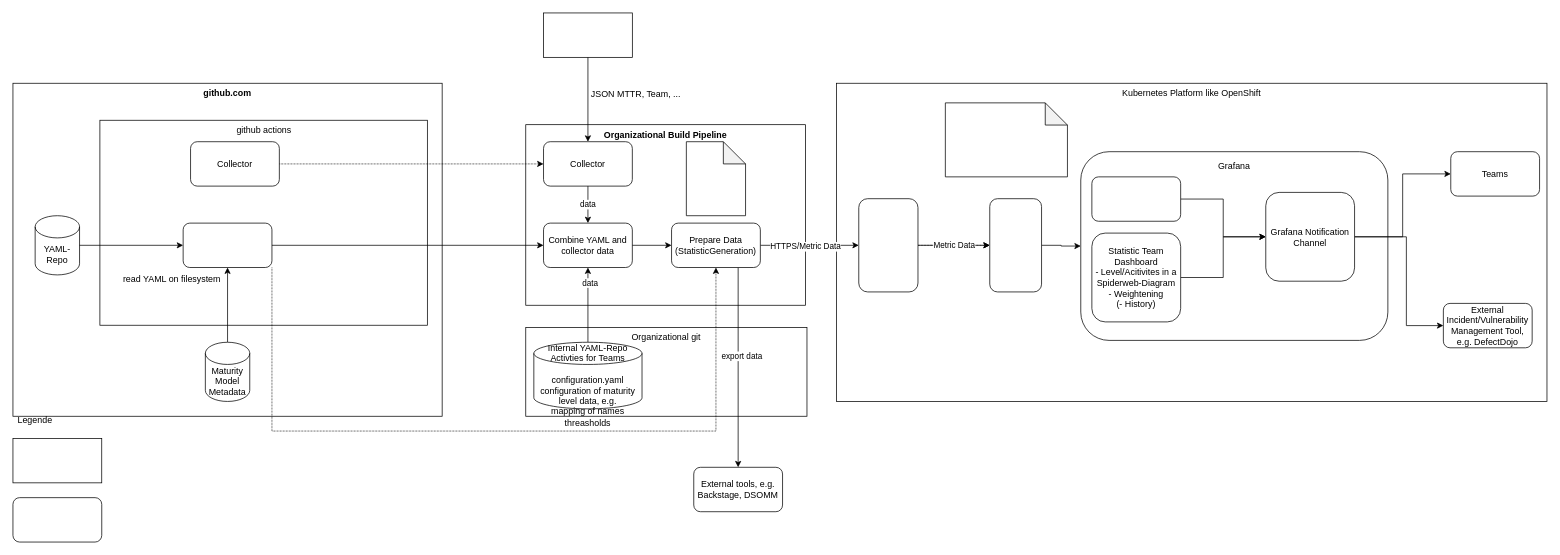
This 1560x555 diagram has some shape labels left out. Here are the shapes that lost their labels. From the top down, the centre of each, then its label:
At (587,34): "Tools, e.g. Confluence, Contrast, Jira, DefectDojo".
At (1006,139): "store Mean Time to Patch per day/application and level".
At (716,178): "Calculate Mean Time to Patch per day/team".
At (1136,198): "Statistic Manager Dashboard - Overall teams/level".
At (227,245): "StatisticGeneration Java, Springboot, Gradle".
At (888,245): "Prometheus Pushgateway".
At (1015,245): "Time Series Database".
At (57,460): "External Entity".
At (57,519): "Process".
